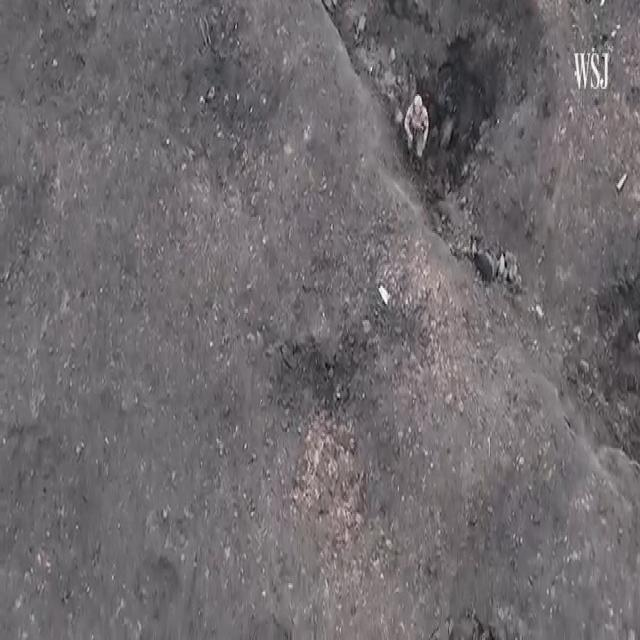MIL_Pax: (404, 96, 429, 157)
